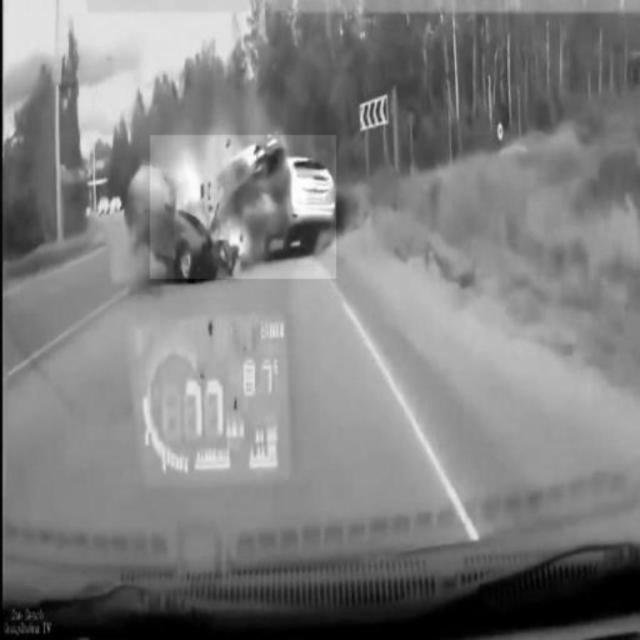accident: (150, 135, 336, 279)
